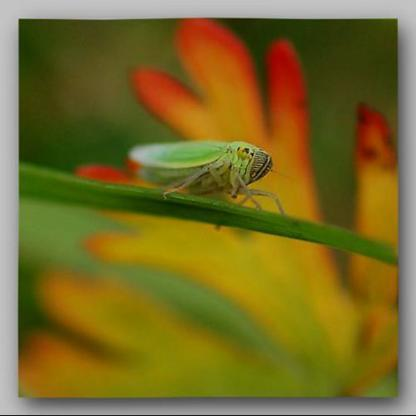green-leafhopper: (132, 134, 282, 204)
